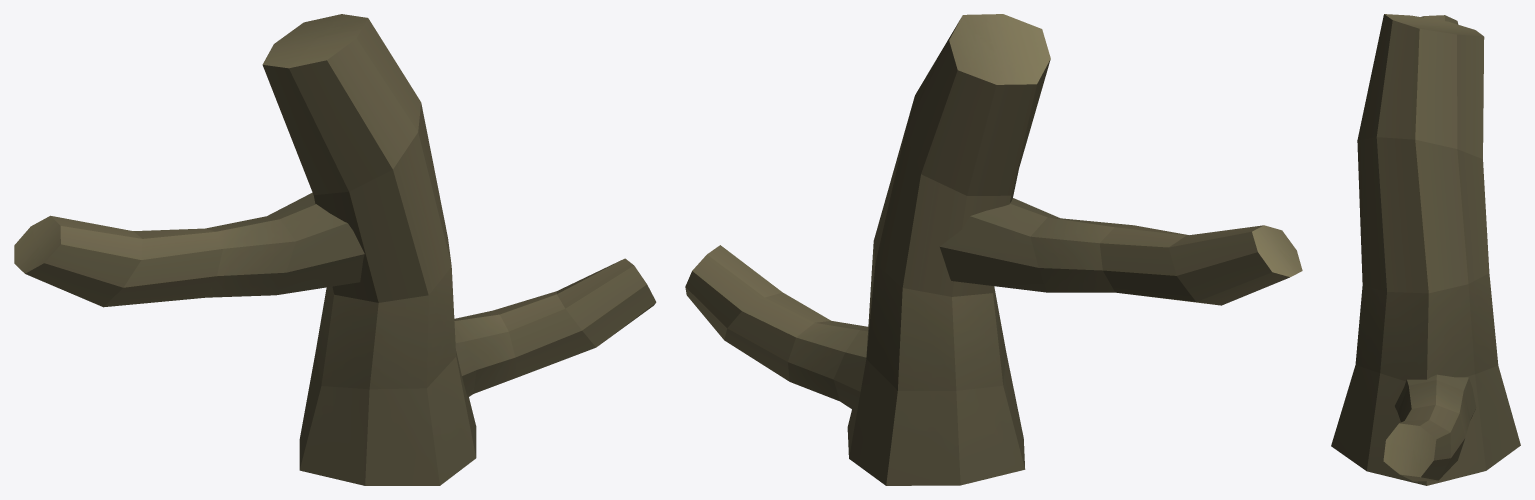
The model's file is obsTrunk_03.fbx.
3 renders of one model, left to right at view 1: azimuth 30°, elevation 25°; view 2: azimuth 150°, elevation 25°; view 3: azimuth 270°, elevation 25°, orthographic. The views are drawn at different scales.
Parts seen in each view (by area): view 1: obsTrunk_03; view 2: obsTrunk_03; view 3: obsTrunk_03.
Boxes of the visible parts, box(x1,y1,x2,y2) form: obsTrunk_03: box(14, 14, 656, 485); obsTrunk_03: box(685, 14, 1302, 485); obsTrunk_03: box(1331, 14, 1520, 485).
Bounding box in the file's own units: 1120 × 759 × 321.
1 material, 1 textured.
